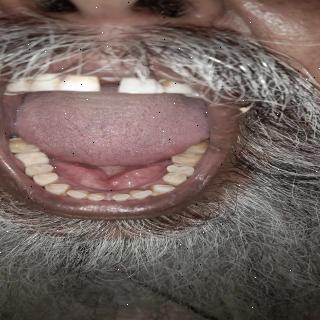calculus: (143, 190, 166, 198)
stains: (6, 77, 40, 92), (142, 179, 175, 194), (51, 182, 80, 198), (34, 174, 62, 187), (151, 79, 179, 91), (156, 176, 180, 188), (45, 77, 65, 91)
